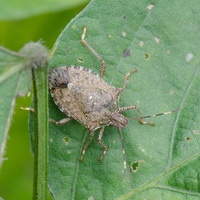insect: (49, 66, 126, 131)
